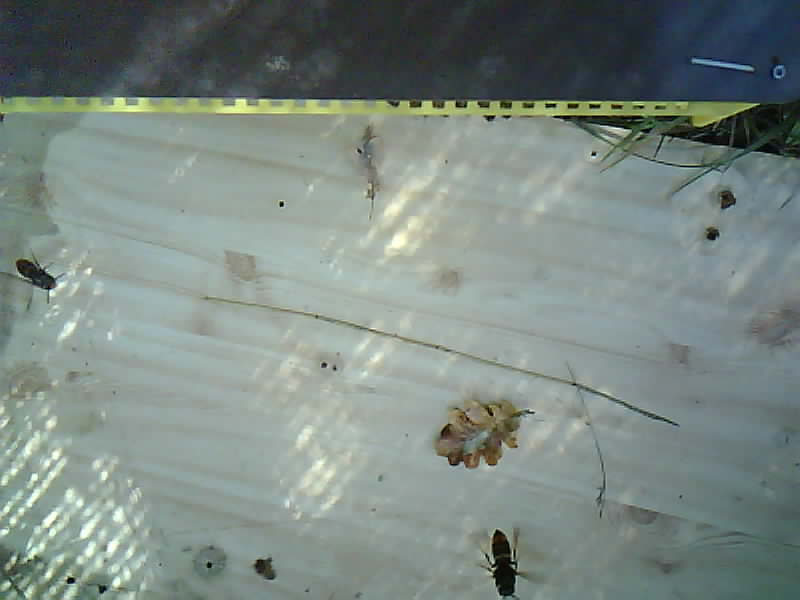hornet: (486, 526, 523, 595), (10, 253, 62, 298)
